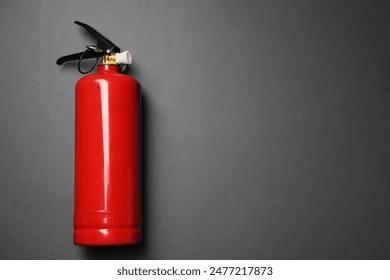wall-mounted: (56, 8, 188, 257)
